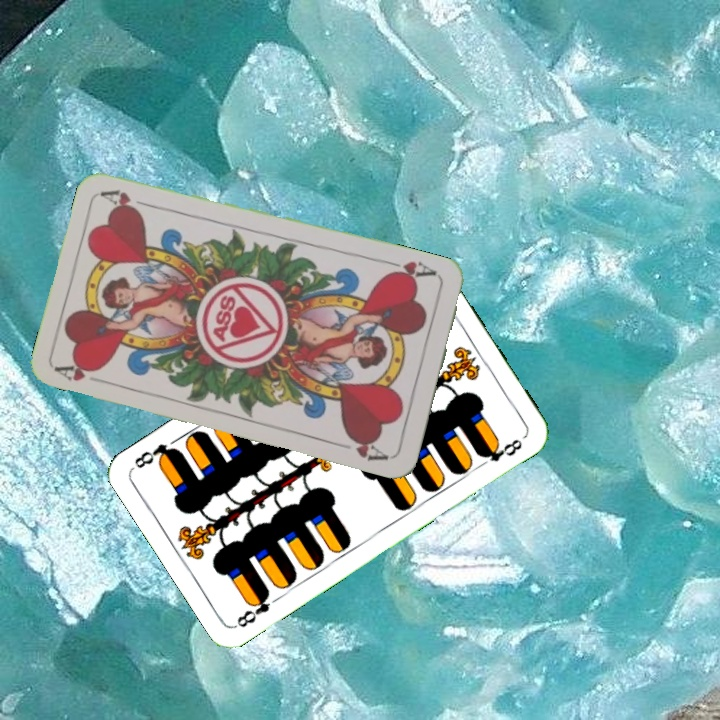E8: (232, 586, 273, 631)
HA: (53, 356, 111, 387), (381, 257, 439, 284)
